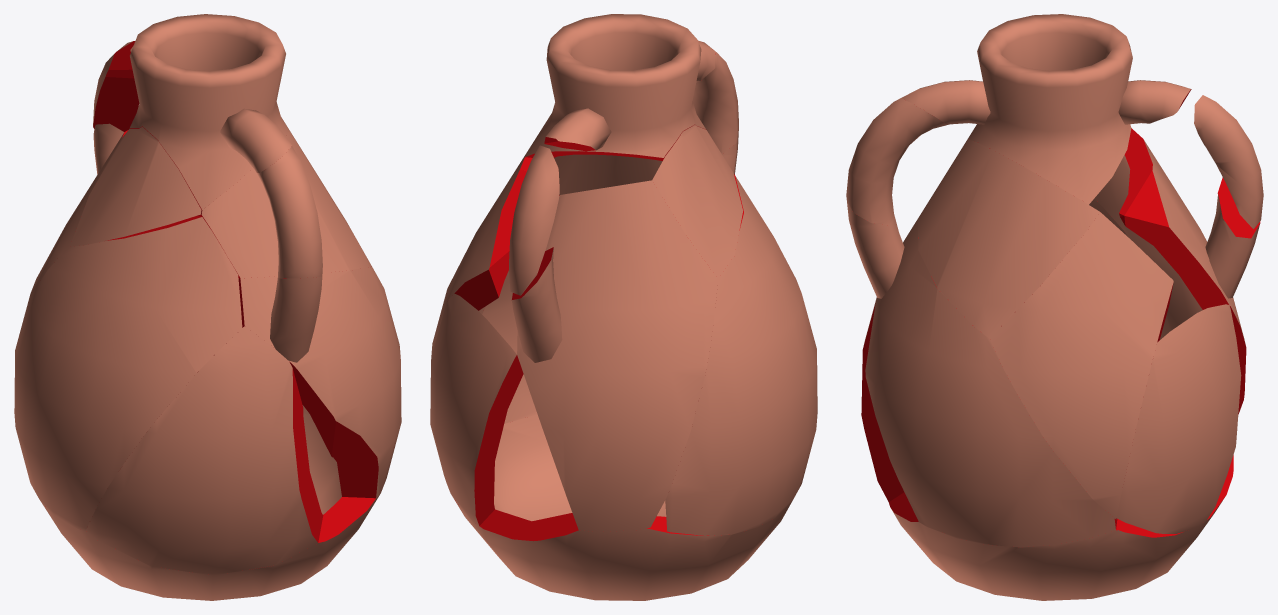
The model's file is ClayPot_06_destroyed 1.fbx.
3 views of the same model, side by side, from view 1: azimuth 30°, elevation 25°; view 2: azimuth 150°, elevation 25°; view 3: azimuth 270°, elevation 25° (orthographic).
Visible parts, largest first — view 1: ClayPot_06_cell.033, ClayPot_06_cell.029, ClayPot_06_cell.032, ClayPot_06_cell.024, ClayPot_06_cell.007, ClayPot_06_cell.028, ClayPot_06_cell.025, ClayPot_06_cell.023, ClayPot_06_cell.022, ClayPot_06_cell.027; view 2: ClayPot_06_cell.027, ClayPot_06_cell.033, ClayPot_06_cell.007, ClayPot_06_cell.024, ClayPot_06_cell.031, ClayPot_06_cell.028, ClayPot_06_cell.026, ClayPot_06_cell.022, ClayPot_06_cell.025, ClayPot_06_cell.023, ClayPot_06_cell.032; view 3: ClayPot_06_cell.032, ClayPot_06_cell.026, ClayPot_06_cell.024, ClayPot_06_cell.025, ClayPot_06_cell.031, ClayPot_06_cell.007, ClayPot_06_cell.027, ClayPot_06_cell.023, ClayPot_06_cell.022, ClayPot_06_cell.029.
Boxes of the visible parts, box(x1,y1,x2,y2) form: ClayPot_06_cell.033: box(14, 216, 242, 531); ClayPot_06_cell.029: box(86, 326, 323, 575); ClayPot_06_cell.032: box(238, 266, 401, 498); ClayPot_06_cell.024: box(129, 14, 291, 209); ClayPot_06_cell.007: box(42, 405, 379, 600); ClayPot_06_cell.028: box(70, 127, 201, 246); ClayPot_06_cell.025: box(197, 128, 371, 278); ClayPot_06_cell.023: box(257, 146, 322, 278); ClayPot_06_cell.022: box(93, 41, 139, 131); ClayPot_06_cell.027: box(28, 123, 128, 302); ClayPot_06_cell.027: box(511, 180, 717, 531); ClayPot_06_cell.033: box(665, 174, 817, 535); ClayPot_06_cell.007: box(455, 414, 791, 600); ClayPot_06_cell.024: box(525, 14, 715, 160); ClayPot_06_cell.031: box(430, 293, 523, 525); ClayPot_06_cell.028: box(652, 125, 742, 278); ClayPot_06_cell.026: box(432, 169, 526, 346); ClayPot_06_cell.022: box(509, 145, 559, 295); ClayPot_06_cell.025: box(514, 153, 662, 194); ClayPot_06_cell.023: box(692, 41, 738, 154); ClayPot_06_cell.032: box(482, 133, 738, 423); ClayPot_06_cell.032: box(847, 202, 1117, 547); ClayPot_06_cell.026: box(989, 212, 1173, 519); ClayPot_06_cell.024: box(901, 14, 1191, 204); ClayPot_06_cell.025: box(918, 139, 1099, 338); ClayPot_06_cell.031: box(1116, 304, 1241, 533); ClayPot_06_cell.007: box(889, 455, 1233, 600); ClayPot_06_cell.027: box(1094, 128, 1260, 414); ClayPot_06_cell.023: box(846, 98, 946, 225); ClayPot_06_cell.022: box(1194, 95, 1263, 228); ClayPot_06_cell.029: box(861, 297, 903, 501).
Bounding box in the file's own units: 35.45 × 50.61 × 38.15.
